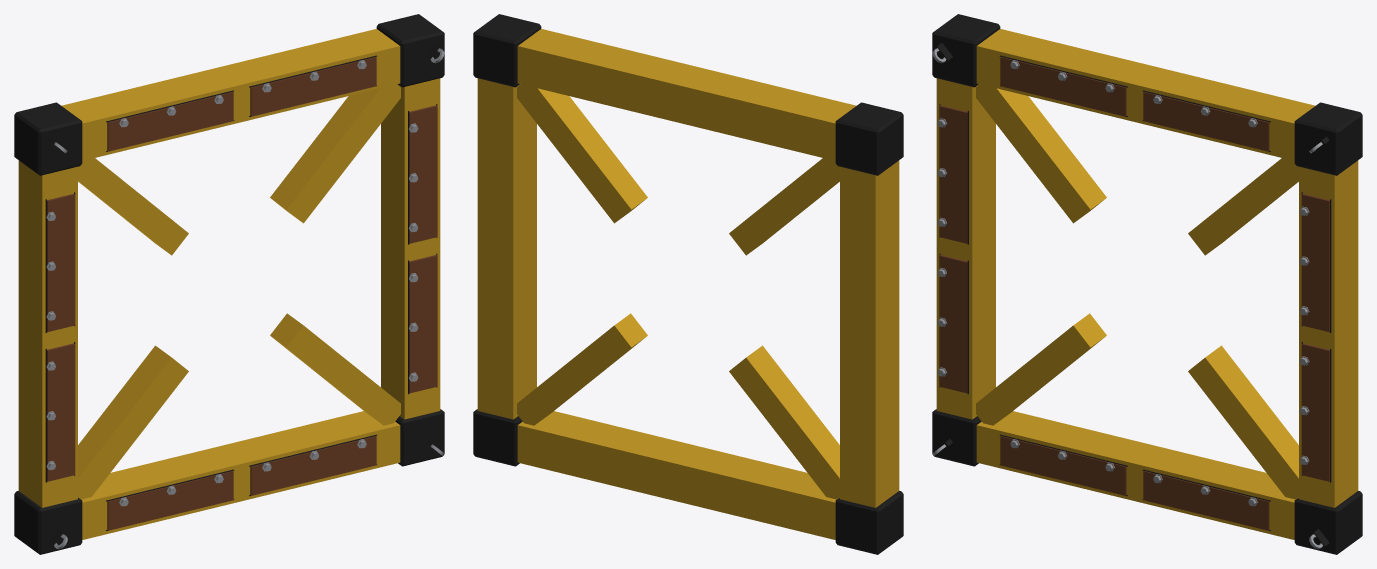
Rendered from trh_frame.obj.
The picture shows the model from 3 angles, left to right: view 1: azimuth 30°, elevation 25°; view 2: azimuth 150°, elevation 25°; view 3: azimuth 330°, elevation 25°; orthographic projection.
Parts seen in each view (by area): view 1: trh_frame; view 2: trh_frame; view 3: trh_frame.
Boxes of the visible parts, left/top/right/bottom form: trh_frame: left=14, top=14, right=444, bottom=554; trh_frame: left=473, top=14, right=903, bottom=554; trh_frame: left=932, top=14, right=1362, bottom=554.
Size of the model in its own units: 5.68 by 5.68 by 0.882.
